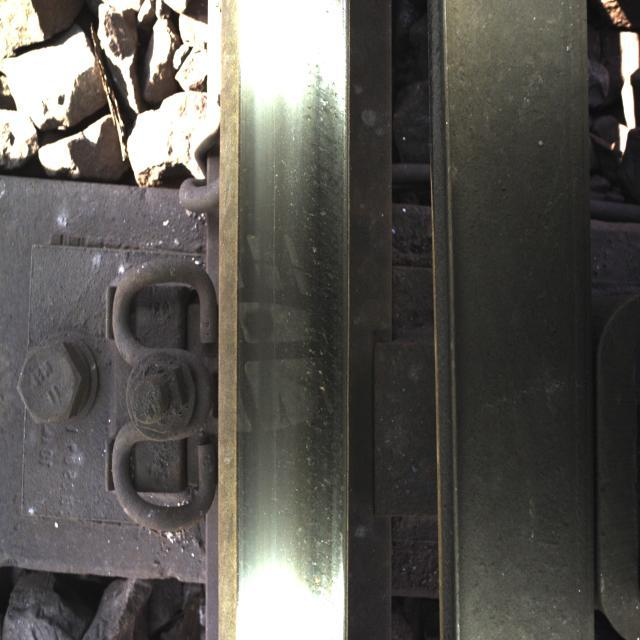scar: (235, 65, 337, 593)
